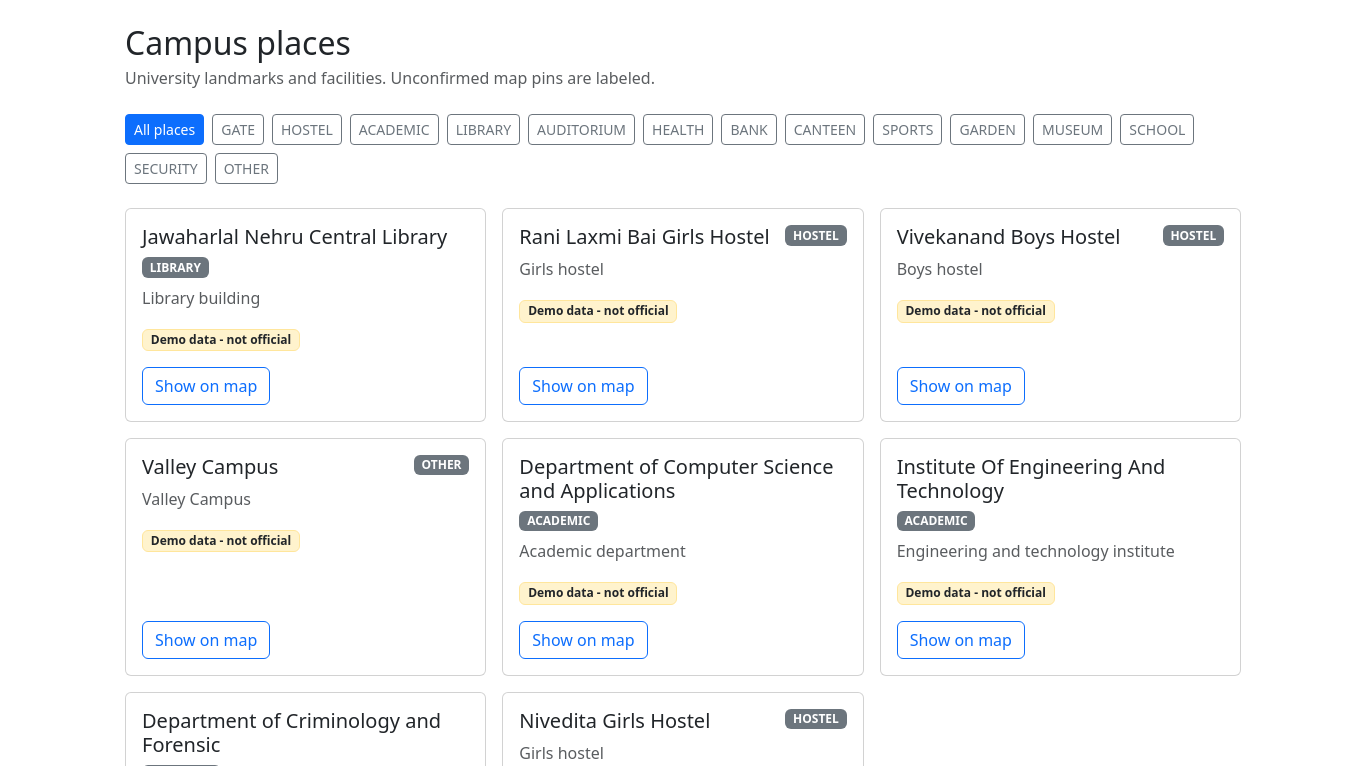
Test: PlacesPage › shows a DemoBadge for unverified places and filters by category
Expected: the heading "Jawaharlal Nehru Central Library" is shown, [142,225,447,249]
Step 1. Click the button "LIBRARY" → (483, 130), box [447,114,520,145]
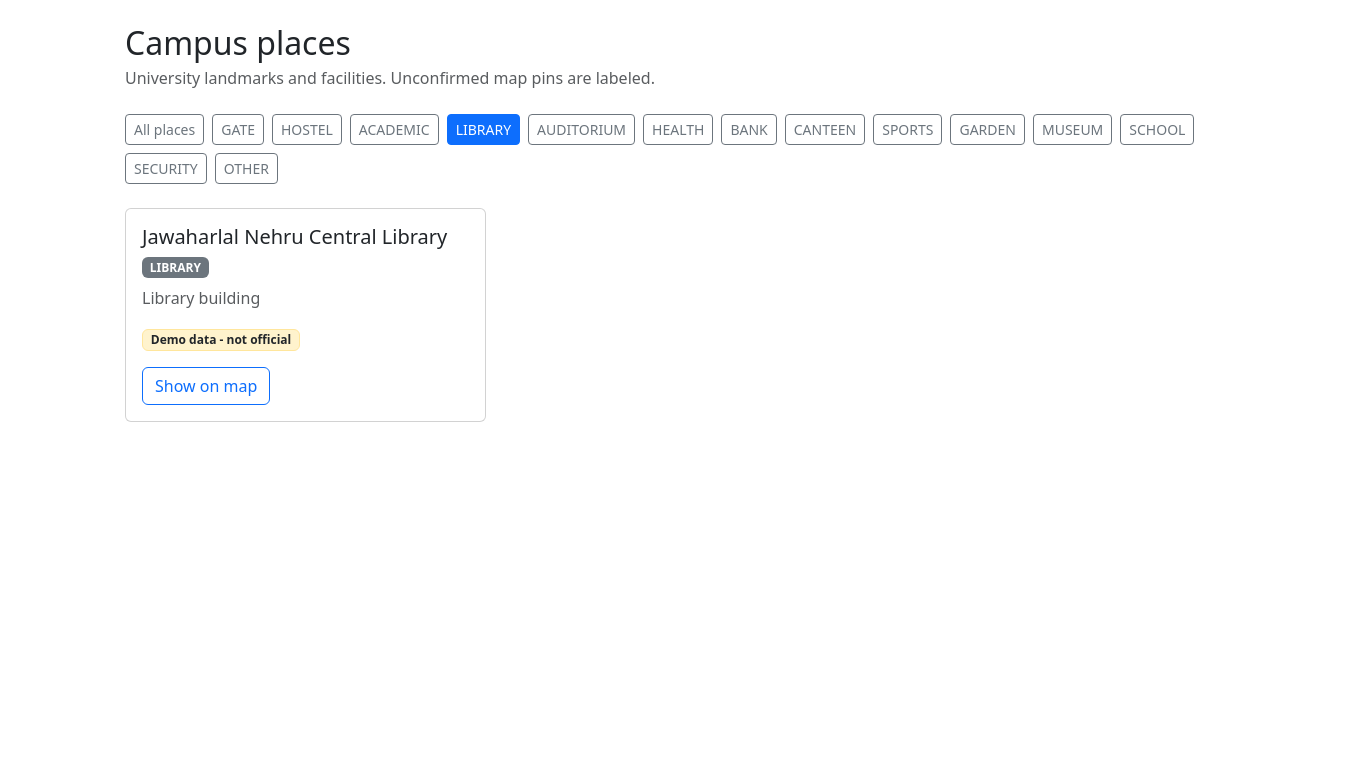
Expected: the heading "Jawaharlal Nehru Central Library" is shown, [142,225,447,249]
Now the heading "Rani Laxmi Bai Girls Hostel" is gone
